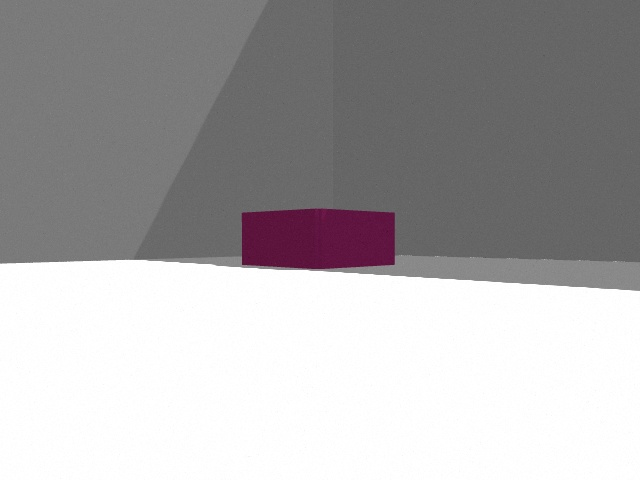red_drop_zone: (242, 209, 395, 269)
